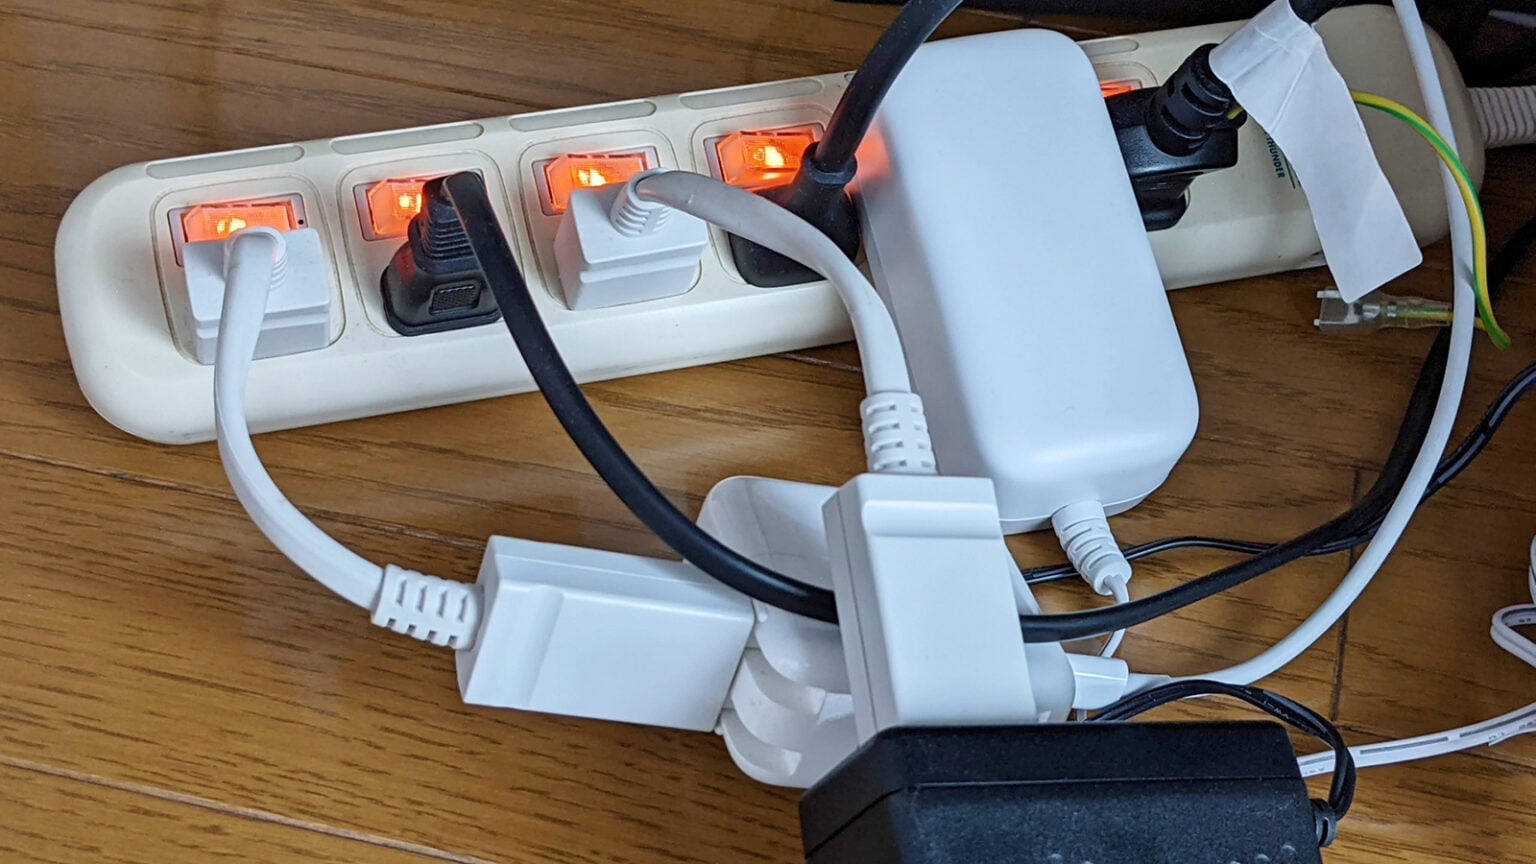socket: (53, 17, 1536, 450)
